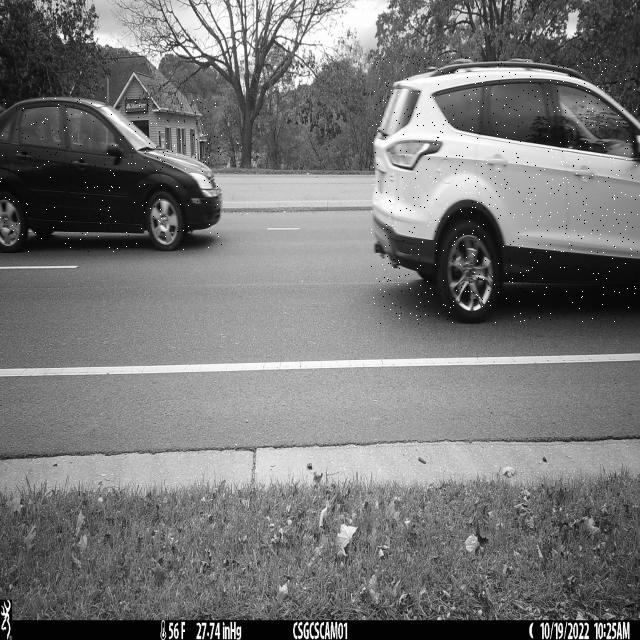SUV: (371, 57, 640, 325)
Sedan: (0, 97, 223, 252)
